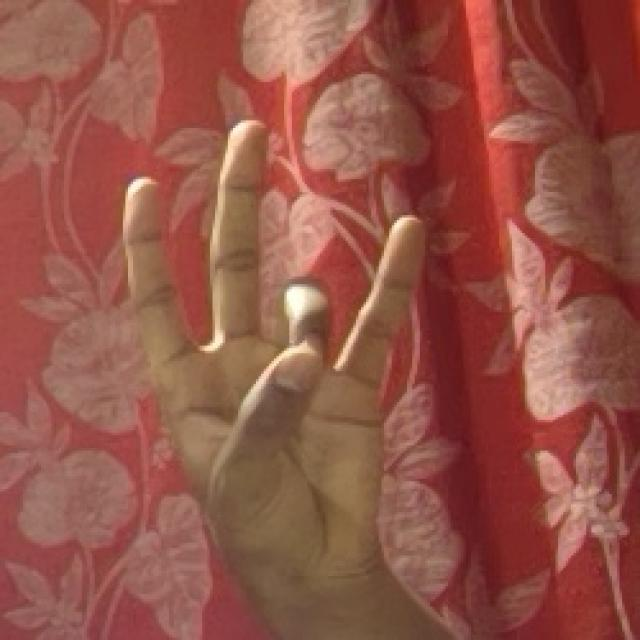Numeric-7: (113, 106, 434, 598)
